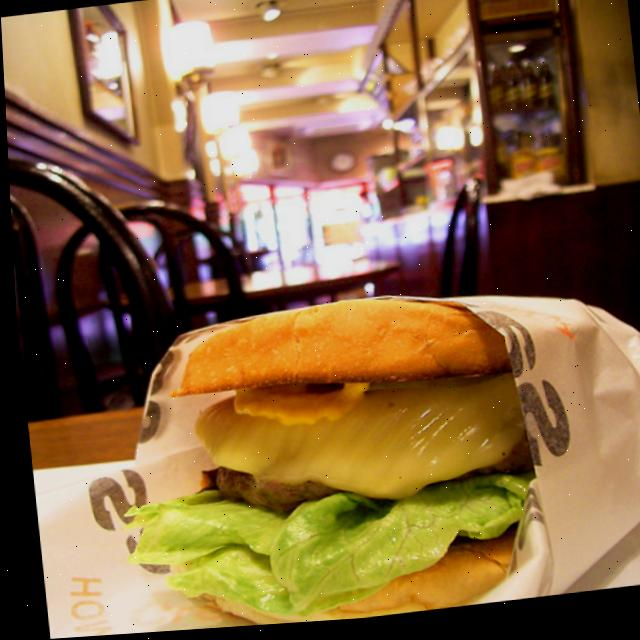汉堡快餐: (106, 273, 557, 635)
